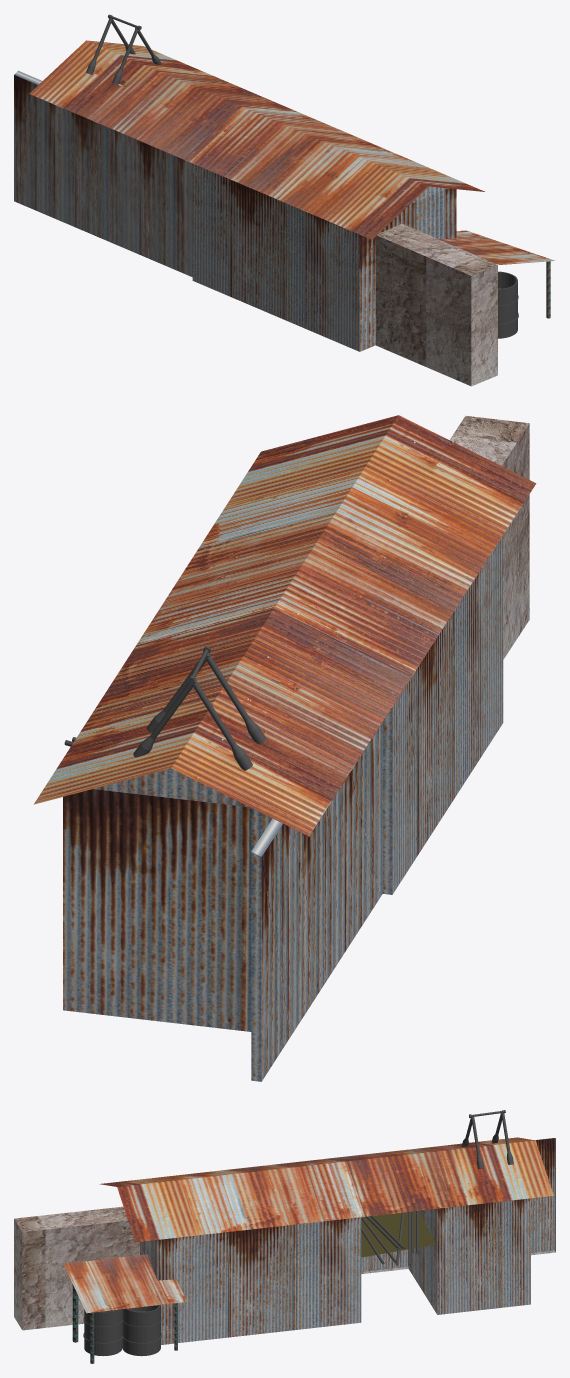
The model's file is CASA IZQUIERDA.glb.
3 renders of one model, top to bottom at view 1: azimuth 30°, elevation 25°; view 2: azimuth 150°, elevation 25°; view 3: azimuth 270°, elevation 25°, orthographic. The views are drawn at different scales.
Parts seen in each view (by area): view 1: Cylinder.014; view 2: Cylinder.014; view 3: Cylinder.014.
Boxes of the visible parts, x1=… form: Cylinder.014: x1=14, y1=14, x2=555, y2=386; Cylinder.014: x1=34, y1=415, x2=536, y2=1081; Cylinder.014: x1=14, y1=1110, x2=555, y2=1363.
Size of the model in its own units: 95.08 by 61.05 by 177.
Materials: 6 (4 with a texture image).
